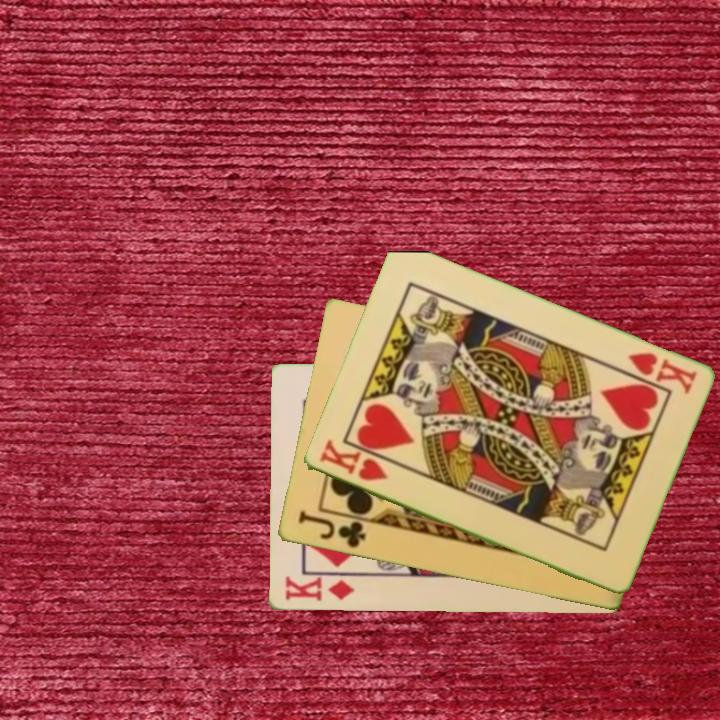Jc: (294, 508, 369, 551)
Kd: (282, 573, 357, 604)
Kh: (315, 437, 391, 485), (623, 349, 699, 397)
